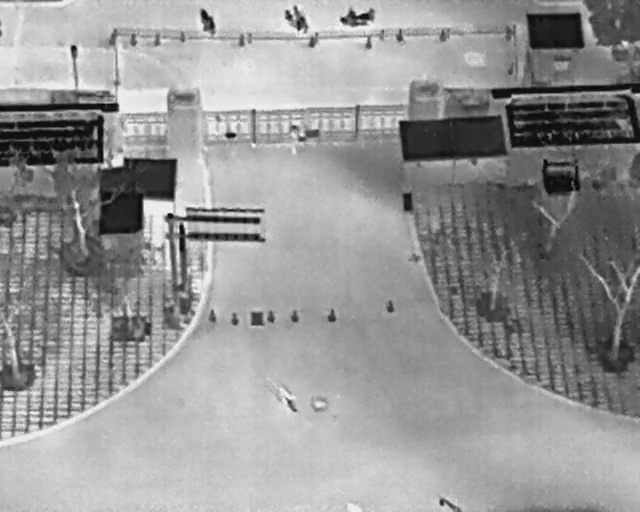Bicycle: (280, 2, 314, 40), (192, 3, 222, 41), (274, 383, 305, 418), (338, 8, 377, 26)
Person: (288, 125, 300, 144)
